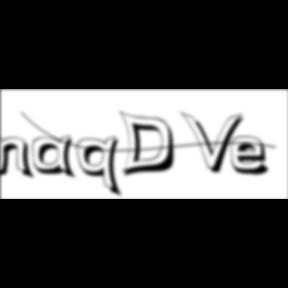D: (119, 110, 182, 180)
V: (180, 110, 248, 176)
a: (32, 135, 80, 182)
e: (231, 135, 277, 178)
n: (0, 132, 38, 181)
q: (78, 135, 127, 200)
